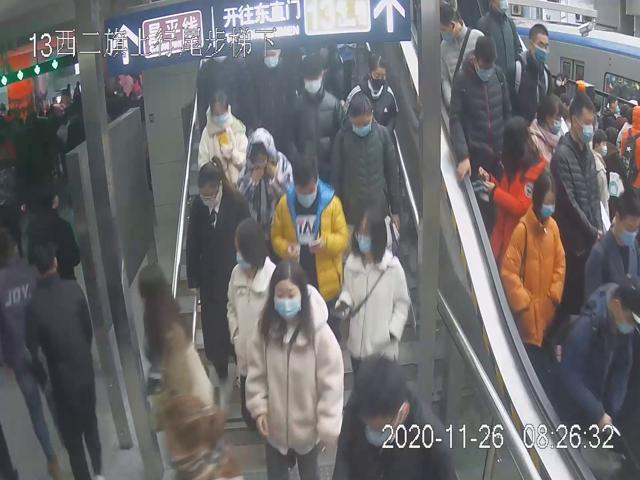person: (247, 257, 344, 480), (186, 156, 248, 390), (267, 150, 346, 319), (500, 173, 566, 371), (342, 199, 412, 382), (225, 216, 281, 431), (329, 85, 403, 239), (449, 26, 511, 195), (553, 83, 606, 280), (282, 54, 343, 182), (235, 125, 291, 231), (342, 48, 396, 134), (195, 91, 244, 184)
